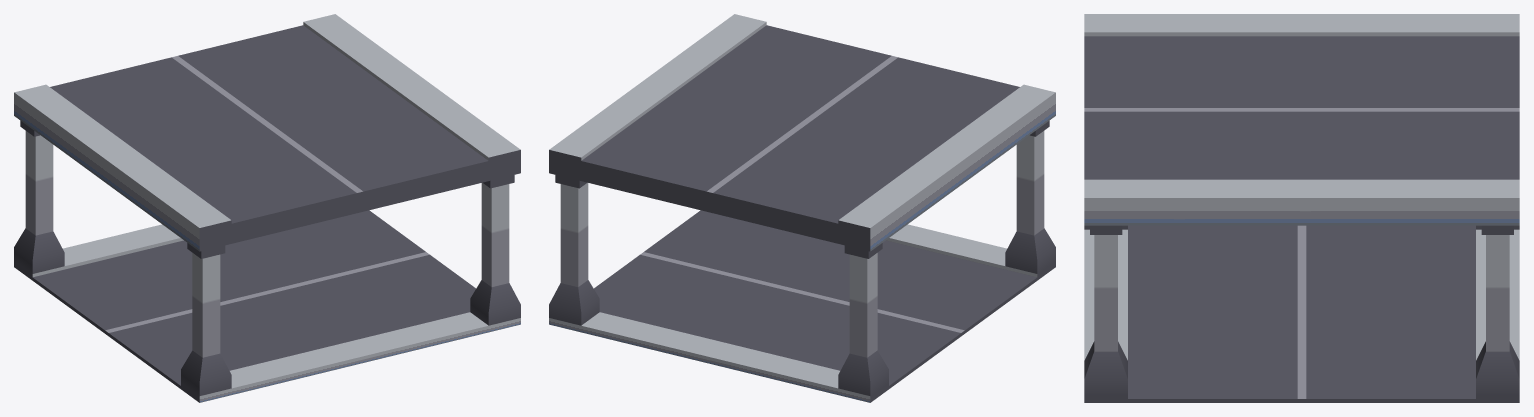
File: bridge.glb
3 renders of one model, left to right at view 1: azimuth 30°, elevation 25°; view 2: azimuth 150°, elevation 25°; view 3: azimuth 270°, elevation 25°, orthographic. The views are drawn at different scales.
Parts seen in each view (by area): view 1: bridge; view 2: bridge; view 3: bridge.
Part boxes in pixels (x1=…): bridge: x1=14, y1=14, x2=520, y2=402; bridge: x1=549, y1=14, x2=1055, y2=402; bridge: x1=1084, y1=14, x2=1519, y2=402.
Size of the model in its own units: 1 by 0.52 by 1.
1 material, 1 textured.
